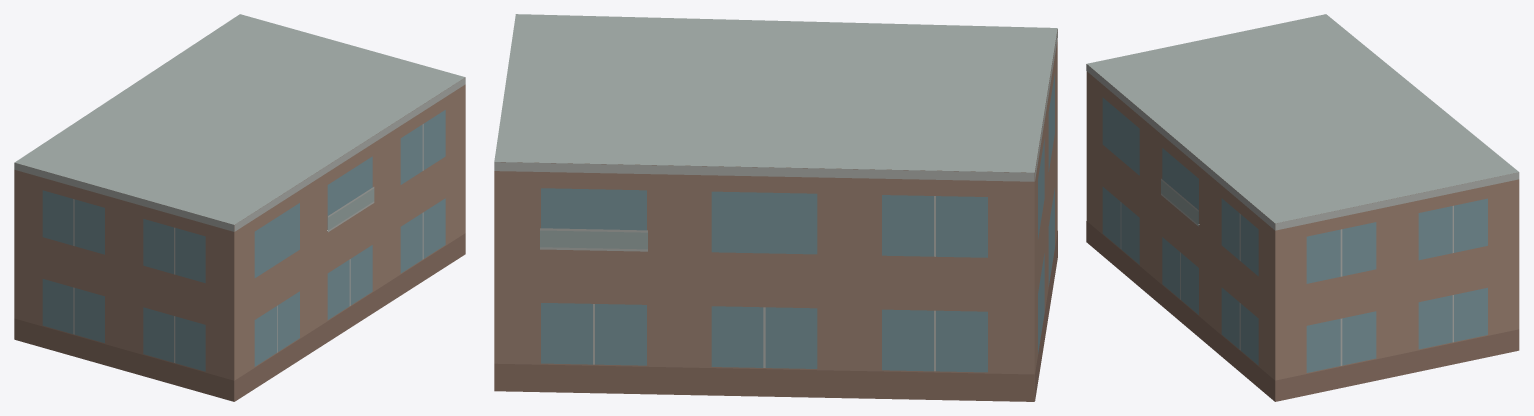
The model's file is survey-upis-32995584.glb.
The picture shows the model from 3 angles, left to right: view 1: azimuth 30°, elevation 25°; view 2: azimuth 150°, elevation 25°; view 3: azimuth 270°, elevation 25°; orthographic projection. The views are drawn at different scales.
Parts seen in each view (by area): view 1: survey-upis-32995584.tmp; view 2: survey-upis-32995584.tmp; view 3: survey-upis-32995584.tmp.
Part boxes in pixels (box(x1,y1,x2,y2)): survey-upis-32995584.tmp: box(14, 14, 465, 401); survey-upis-32995584.tmp: box(494, 14, 1057, 401); survey-upis-32995584.tmp: box(1086, 14, 1519, 401).
Size of the model in its own units: 15.37 by 6.1 by 13.42.
